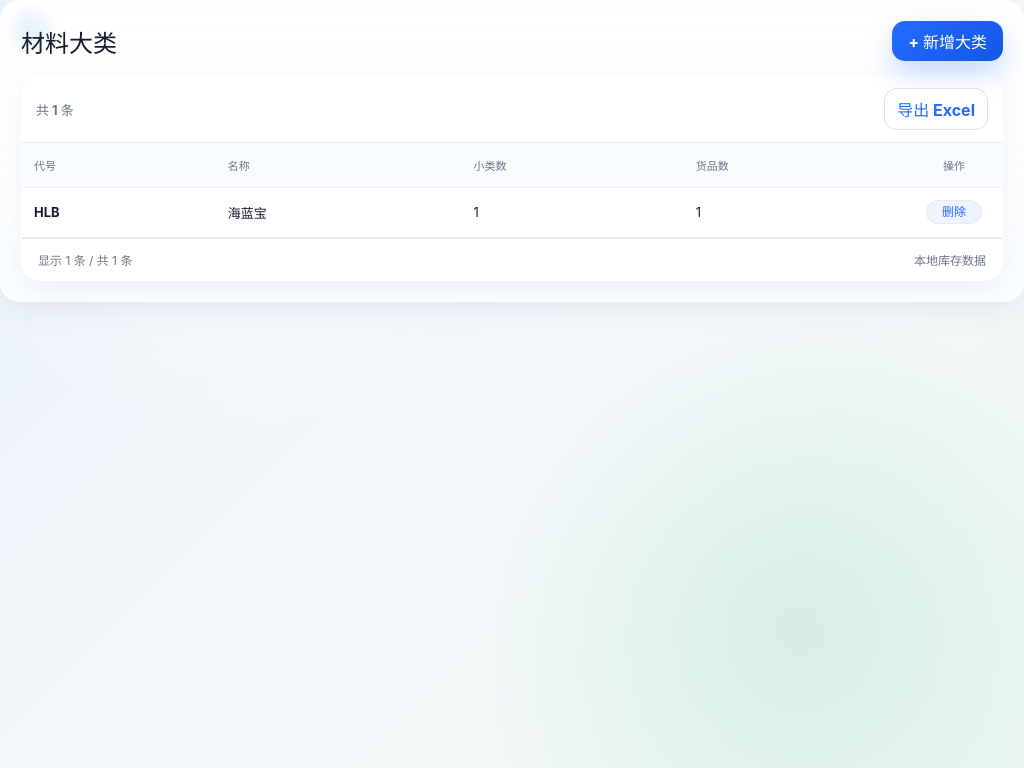
Scenario: MaterialsPage › rejects duplicate catalog codes and deletes unused catalog entries only
The image size is (1024, 768).
Later steps or results of the test are not shown.
Click the button "+ 新增大类" at (948,41), box 892,21 -> 1003,61
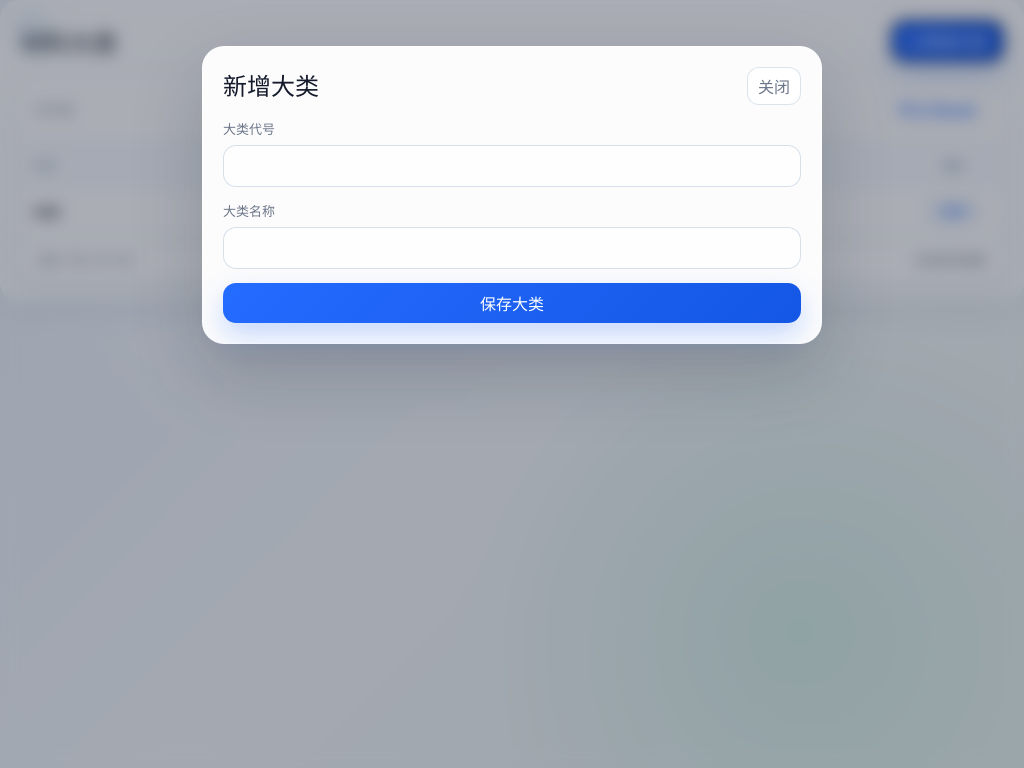
Type "HLB" into the field labelled "大类代号" at (512,166), box 223,145 -> 801,187
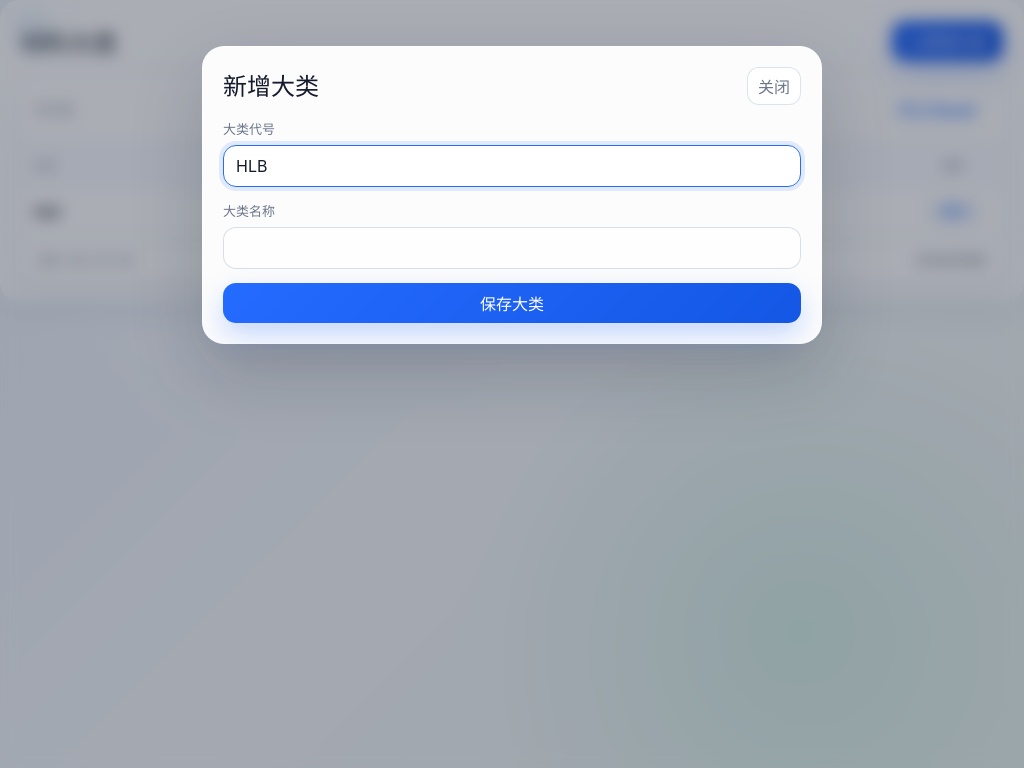
Type "重复海蓝宝" into the field labelled "大类名称" at (512,248), box 223,227 -> 801,269
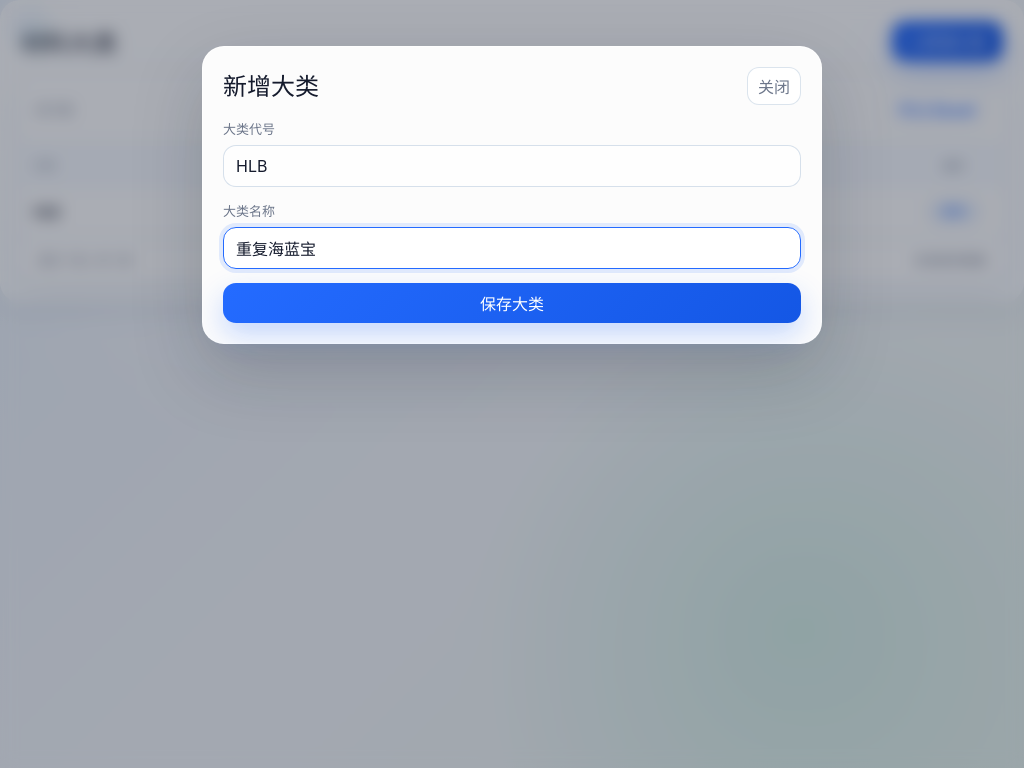
Click the button "保存大类" at (512,303), box 223,283 -> 801,323
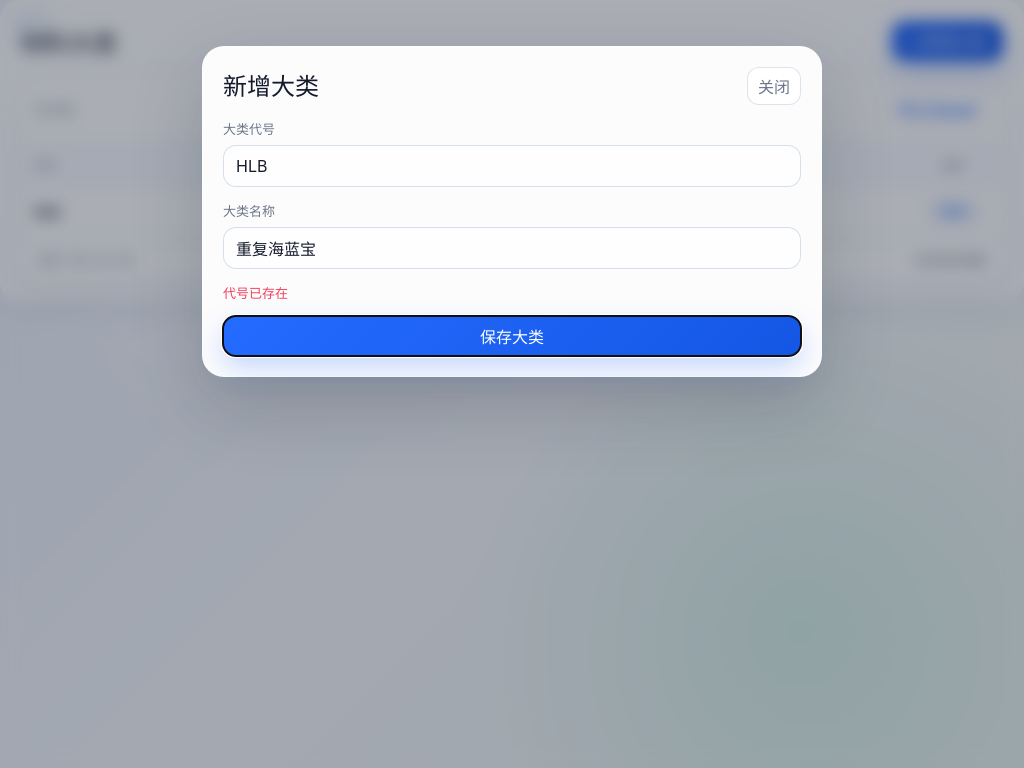
Check: the text "代号已存在" is shown, box 223,285 -> 288,301
